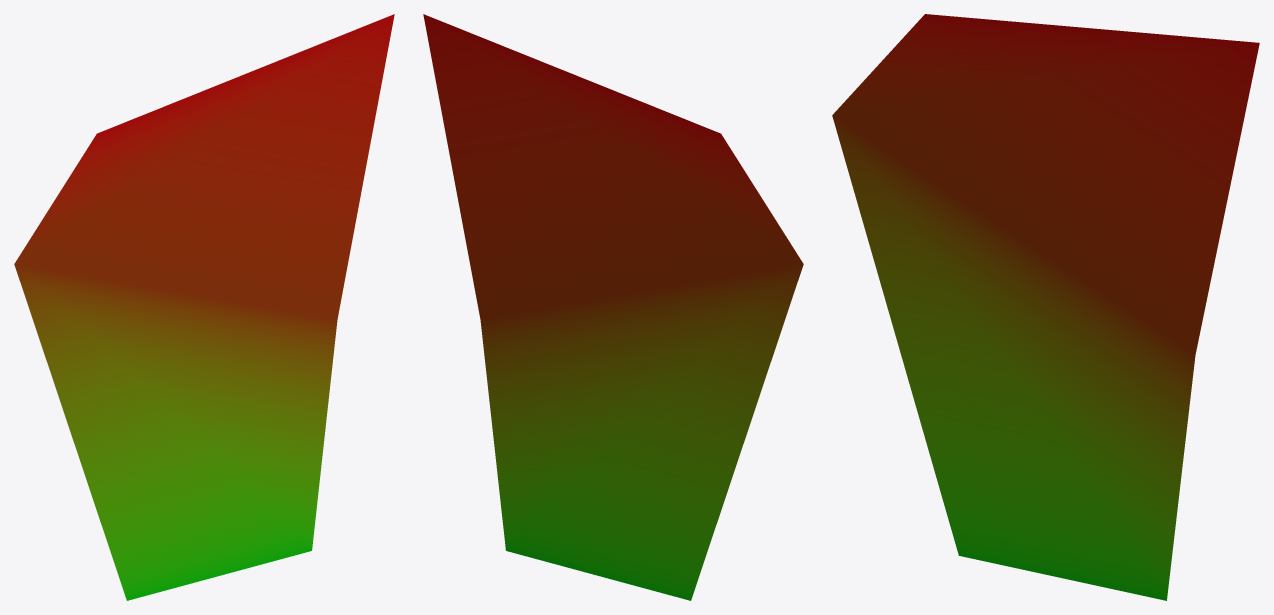
Rendered from Cotton Grass_LOD4_Var14_wlykecdia.fbx.
The picture shows the model from 3 angles, left to right: view 1: azimuth 30°, elevation 25°; view 2: azimuth 150°, elevation 25°; view 3: azimuth 330°, elevation 25°; orthographic projection. The views are drawn at different scales.
Visible parts, largest first — view 1: _gm1s_Var14_LOD4; view 2: _gm1s_Var14_LOD4; view 3: _gm1s_Var14_LOD4.
Part boxes in pixels (left/top/right/bottom): _gm1s_Var14_LOD4: left=14, top=14, right=394, bottom=600; _gm1s_Var14_LOD4: left=423, top=14, right=803, bottom=600; _gm1s_Var14_LOD4: left=832, top=14, right=1259, bottom=600.
Bounding box in the file's own units: 13.99 × 18.33 × 1.49e-07.
